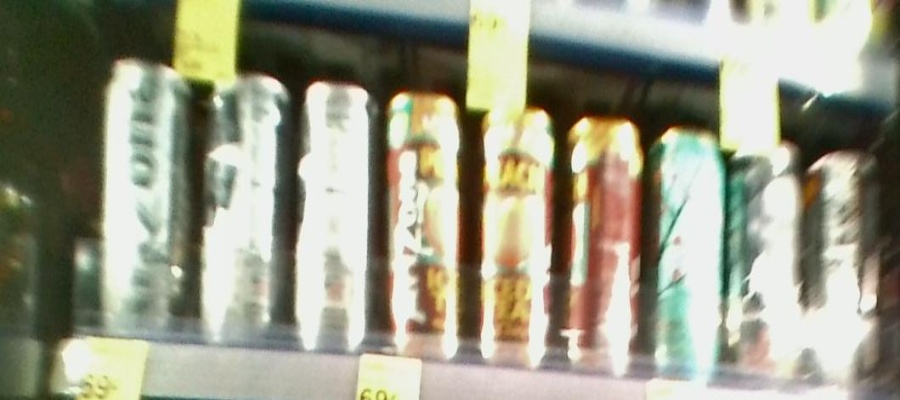bottle: (97, 45, 195, 339), (199, 51, 291, 346), (294, 69, 379, 352), (382, 89, 466, 363), (473, 96, 554, 372), (562, 108, 644, 371), (650, 108, 727, 381), (808, 128, 886, 382), (728, 126, 805, 381)
